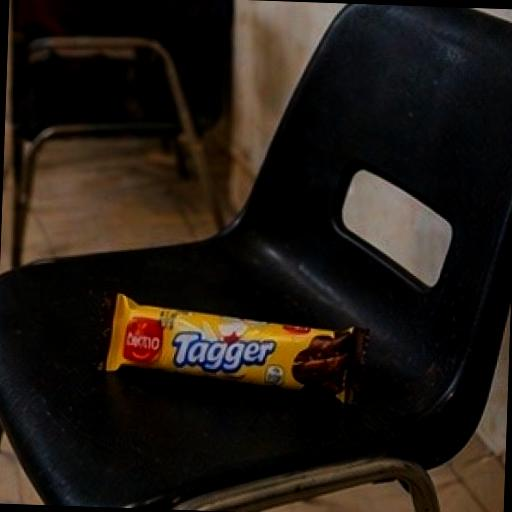tagger: (66, 237, 437, 468)
